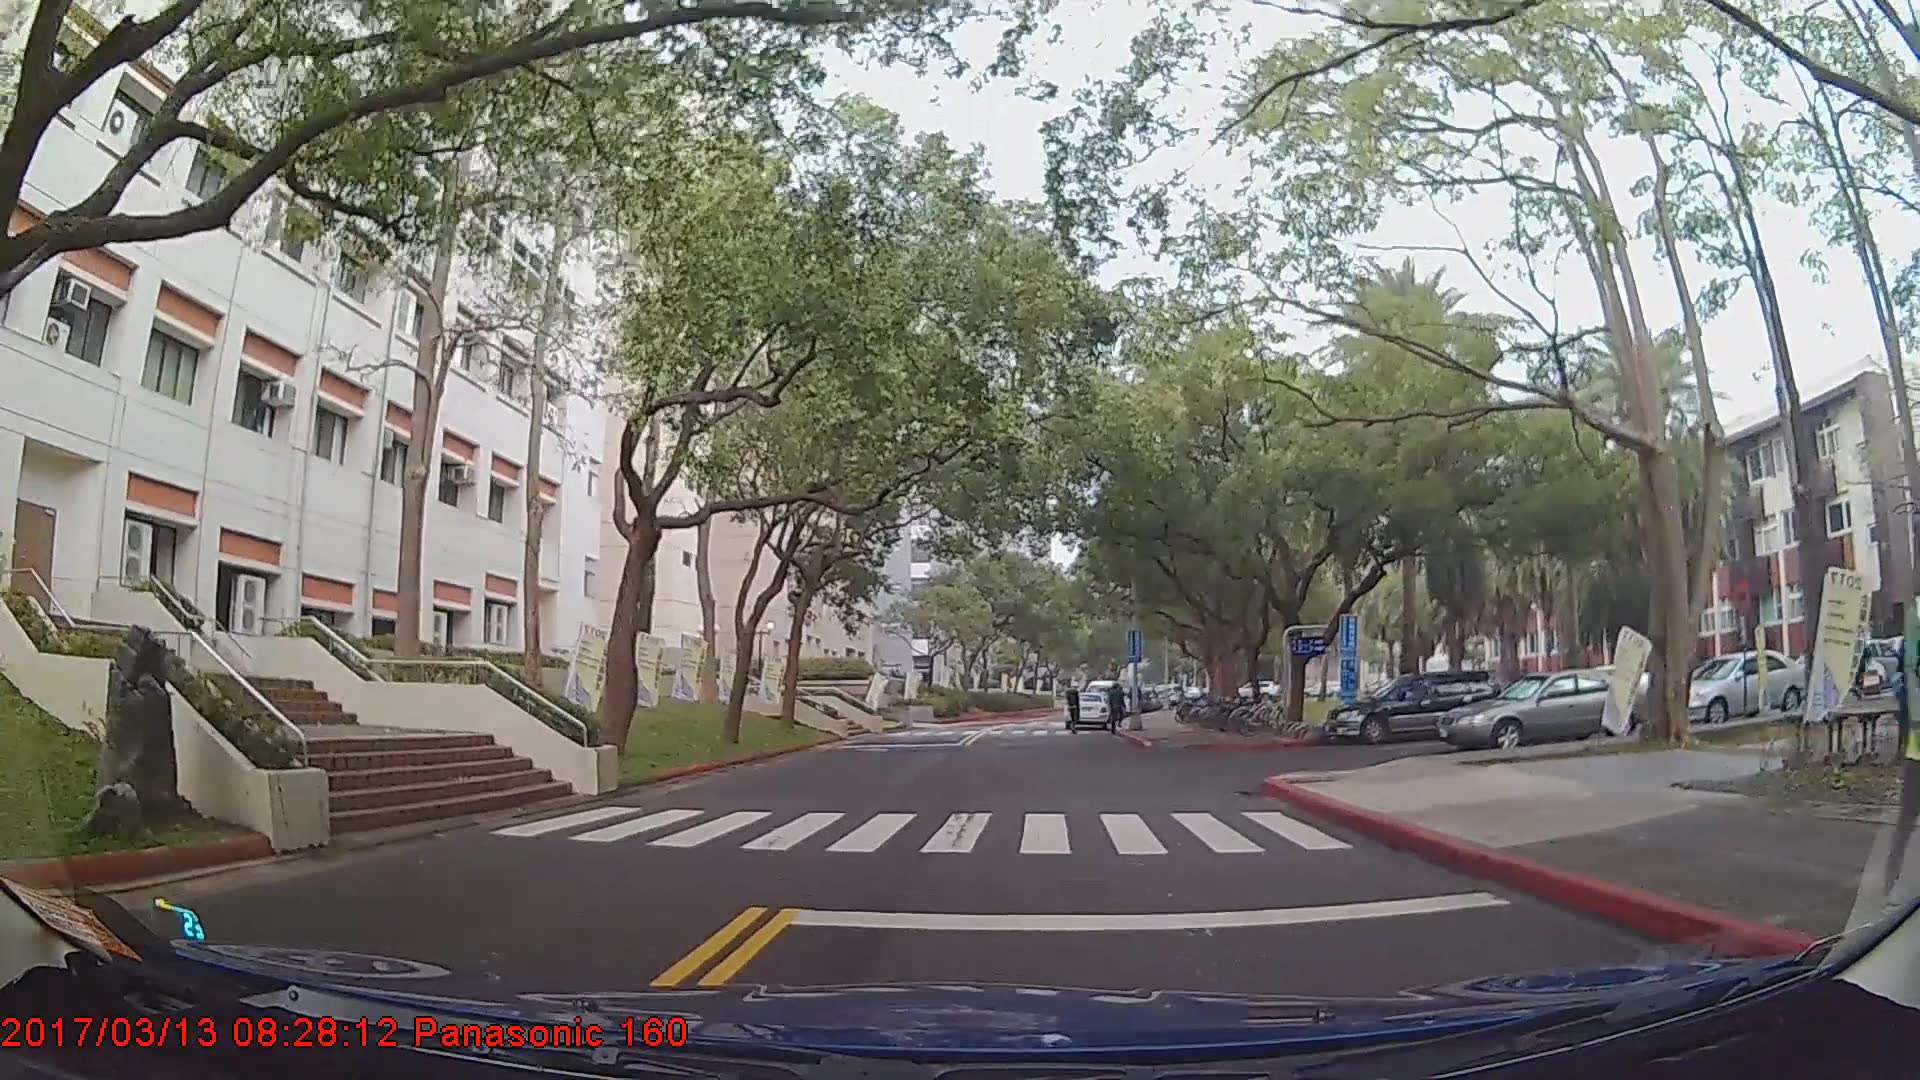pedestrian: (1108, 683, 1130, 734), (1066, 684, 1086, 736)
vehicle: (1437, 669, 1646, 752), (1328, 668, 1500, 744), (1669, 650, 1814, 725), (1063, 689, 1111, 729)
